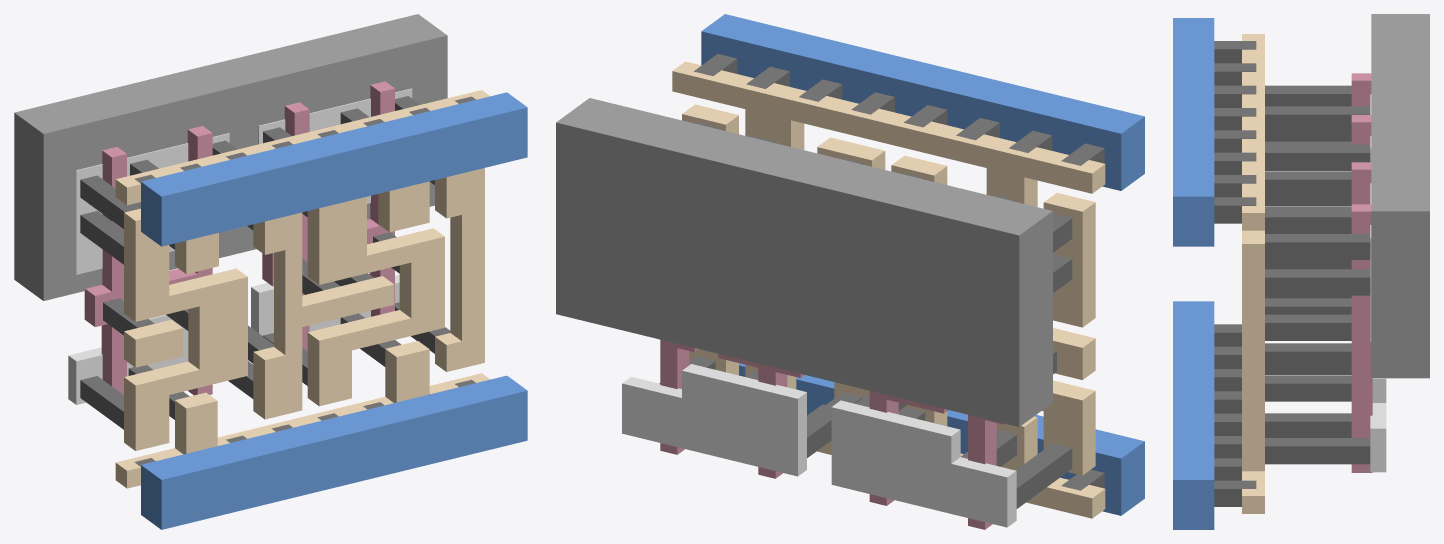
The model's file is sky130_fd_sc_hd__clkdlybuf4s15_1.gds.gltf.
3 views of the same model, side by side, from view 1: azimuth 30°, elevation 25°; view 2: azimuth 150°, elevation 25°; view 3: azimuth 270°, elevation 25° (orthographic). The views are drawn at different scales.
Visible parts, largest first — view 1: sky130_fd_sc_hd__clkdlybuf4s15_1_li1, sky130_fd_sc_hd__clkdlybuf4s15_1_met1, sky130_fd_sc_hd__clkdlybuf4s15_1_nwell, sky130_fd_sc_hd__clkdlybuf4s15_1_licon, sky130_fd_sc_hd__clkdlybuf4s15_1_poly, sky130_fd_sc_hd__clkdlybuf4s15_1_diff, sky130_fd_sc_hd__clkdlybuf4s15_1_mcon; view 2: sky130_fd_sc_hd__clkdlybuf4s15_1_nwell, sky130_fd_sc_hd__clkdlybuf4s15_1_li1, sky130_fd_sc_hd__clkdlybuf4s15_1_diff, sky130_fd_sc_hd__clkdlybuf4s15_1_met1, sky130_fd_sc_hd__clkdlybuf4s15_1_licon, sky130_fd_sc_hd__clkdlybuf4s15_1_mcon, sky130_fd_sc_hd__clkdlybuf4s15_1_poly; view 3: sky130_fd_sc_hd__clkdlybuf4s15_1_licon, sky130_fd_sc_hd__clkdlybuf4s15_1_nwell, sky130_fd_sc_hd__clkdlybuf4s15_1_met1, sky130_fd_sc_hd__clkdlybuf4s15_1_mcon, sky130_fd_sc_hd__clkdlybuf4s15_1_li1, sky130_fd_sc_hd__clkdlybuf4s15_1_poly, sky130_fd_sc_hd__clkdlybuf4s15_1_diff.
Part boxes in pixels (bbox=[...]): sky130_fd_sc_hd__clkdlybuf4s15_1_li1: bbox=[115, 90, 489, 488]; sky130_fd_sc_hd__clkdlybuf4s15_1_met1: bbox=[141, 92, 527, 529]; sky130_fd_sc_hd__clkdlybuf4s15_1_nwell: bbox=[14, 14, 447, 300]; sky130_fd_sc_hd__clkdlybuf4s15_1_licon: bbox=[80, 96, 450, 429]; sky130_fd_sc_hd__clkdlybuf4s15_1_poly: bbox=[84, 81, 394, 395]; sky130_fd_sc_hd__clkdlybuf4s15_1_diff: bbox=[68, 88, 412, 404]; sky130_fd_sc_hd__clkdlybuf4s15_1_mcon: bbox=[134, 96, 475, 466]; sky130_fd_sc_hd__clkdlybuf4s15_1_nwell: bbox=[556, 98, 1052, 426]; sky130_fd_sc_hd__clkdlybuf4s15_1_li1: bbox=[672, 61, 1105, 518]; sky130_fd_sc_hd__clkdlybuf4s15_1_diff: bbox=[622, 364, 1016, 527]; sky130_fd_sc_hd__clkdlybuf4s15_1_met1: bbox=[701, 14, 1144, 515]; sky130_fd_sc_hd__clkdlybuf4s15_1_licon: bbox=[659, 122, 1072, 508]; sky130_fd_sc_hd__clkdlybuf4s15_1_mcon: bbox=[694, 54, 1104, 490]; sky130_fd_sc_hd__clkdlybuf4s15_1_poly: bbox=[660, 339, 1004, 529]; sky130_fd_sc_hd__clkdlybuf4s15_1_licon: bbox=[1265, 85, 1370, 464]; sky130_fd_sc_hd__clkdlybuf4s15_1_nwell: bbox=[1371, 14, 1429, 378]; sky130_fd_sc_hd__clkdlybuf4s15_1_met1: bbox=[1173, 18, 1214, 529]; sky130_fd_sc_hd__clkdlybuf4s15_1_mcon: bbox=[1214, 41, 1256, 506]; sky130_fd_sc_hd__clkdlybuf4s15_1_li1: bbox=[1242, 34, 1264, 513]; sky130_fd_sc_hd__clkdlybuf4s15_1_poly: bbox=[1351, 73, 1372, 472]; sky130_fd_sc_hd__clkdlybuf4s15_1_diff: bbox=[1370, 94, 1386, 472].
Bounding box in the file's own units: 4.06 × 3.2 × 2.24.
